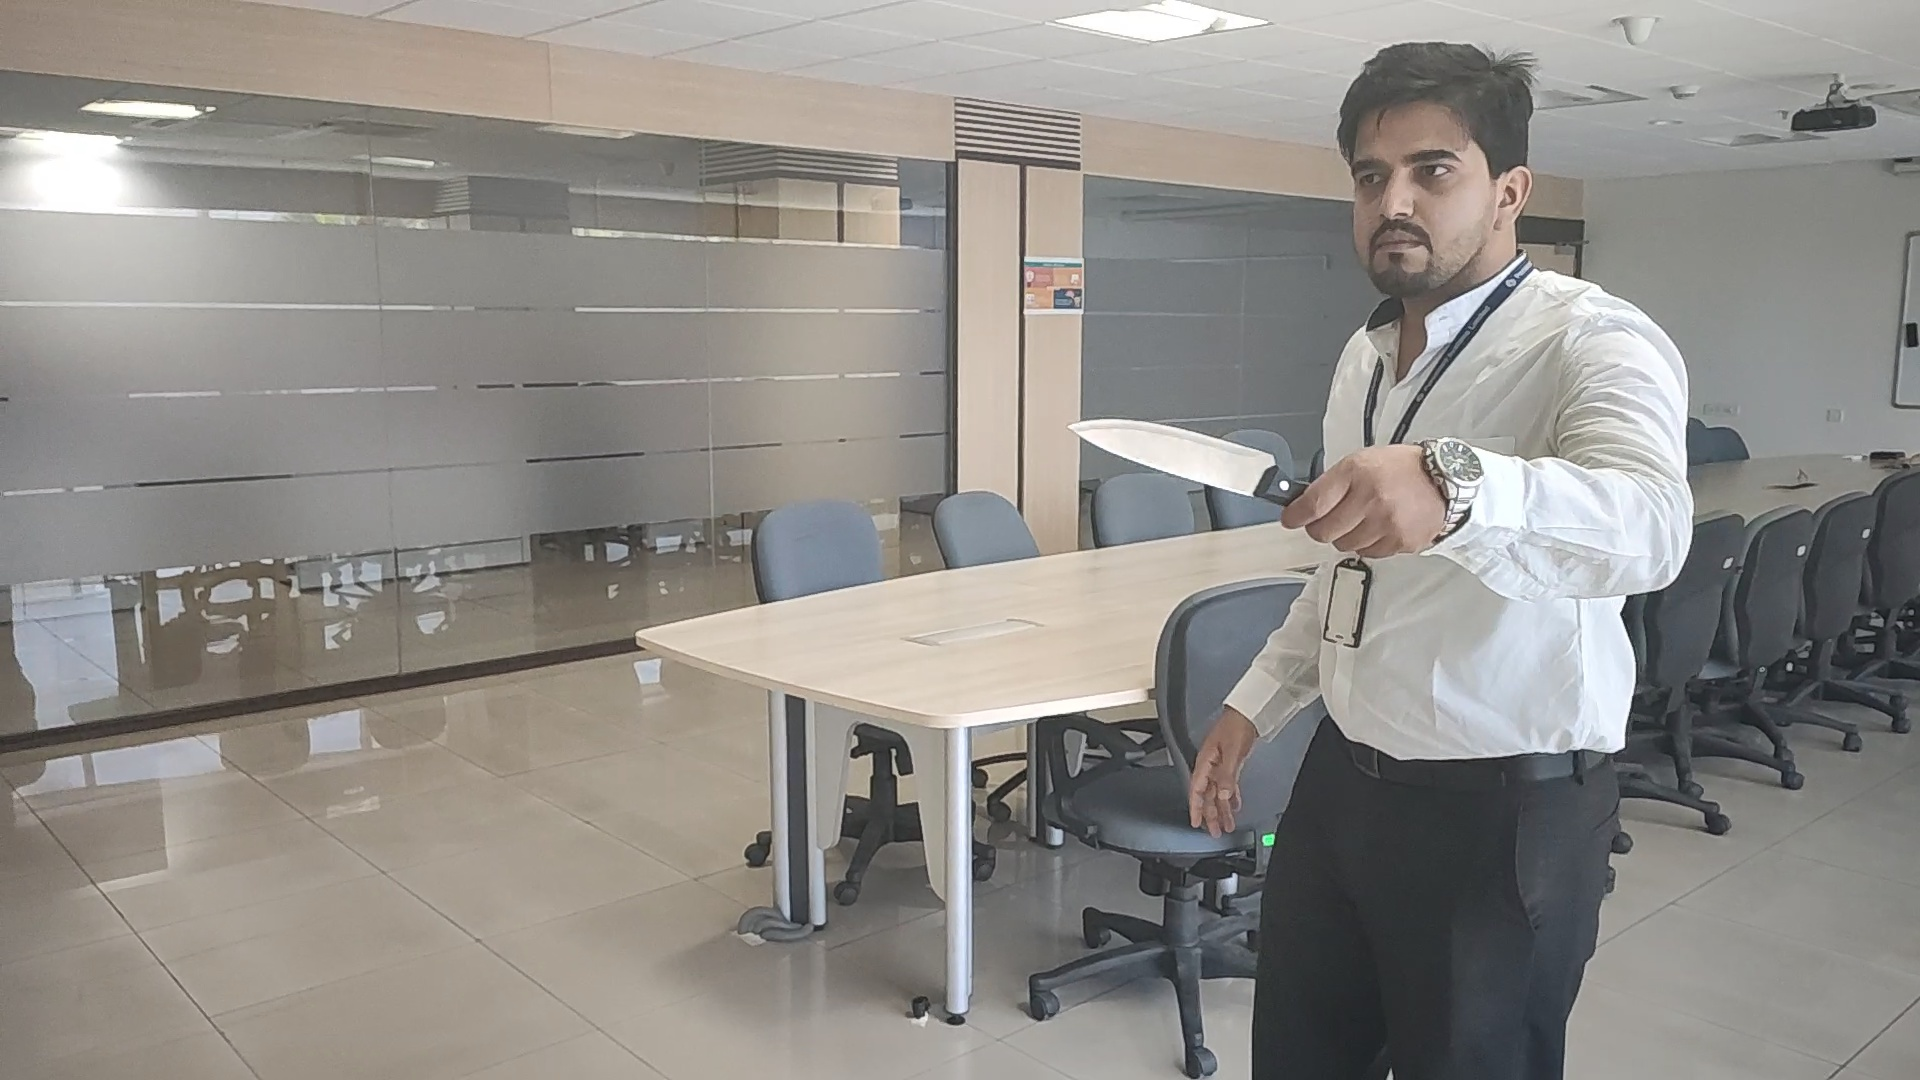knife: (1069, 414, 1311, 512)
